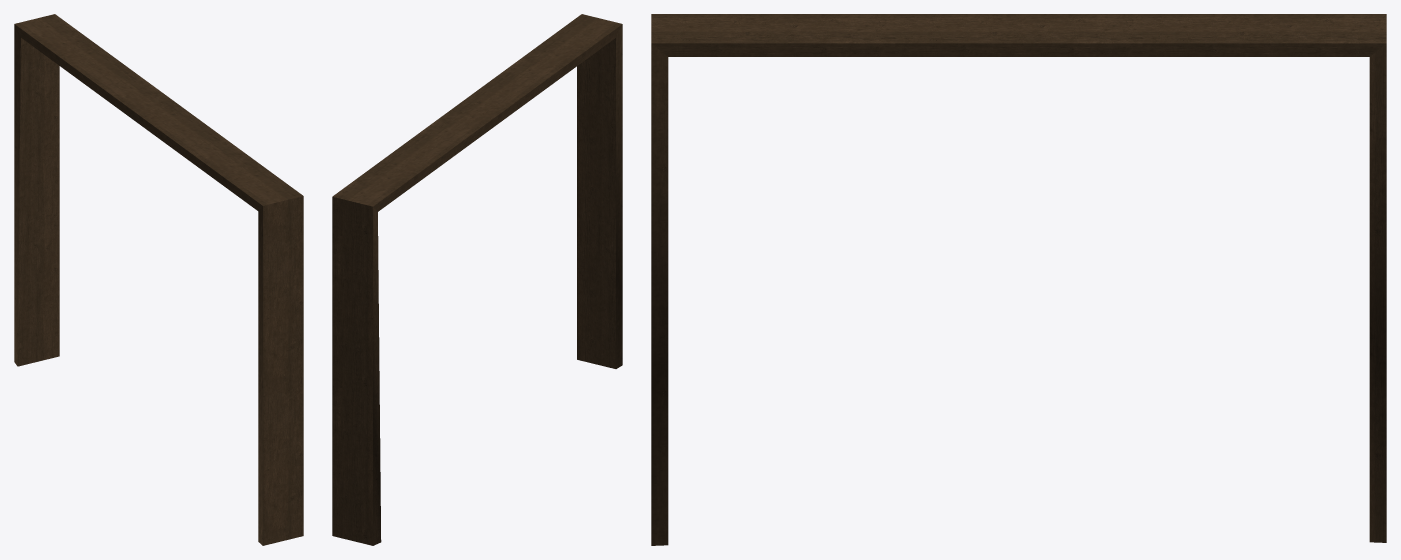
File: kapıKasası 1.fbx
3 views of the same model, side by side, from view 1: azimuth 30°, elevation 25°; view 2: azimuth 150°, elevation 25°; view 3: azimuth 270°, elevation 25° (orthographic). The views are drawn at different scales.
Parts seen in each view (by area): view 1: Cube.001; view 2: Cube.001; view 3: Cube.001.
Part boxes in pixels (x1,y1,x2,y2): Cube.001: (14, 14, 303, 545); Cube.001: (332, 14, 622, 545); Cube.001: (651, 14, 1386, 545).
Bounding box in the file's own units: 29.98 × 226 × 300.
1 material, 1 textured.
